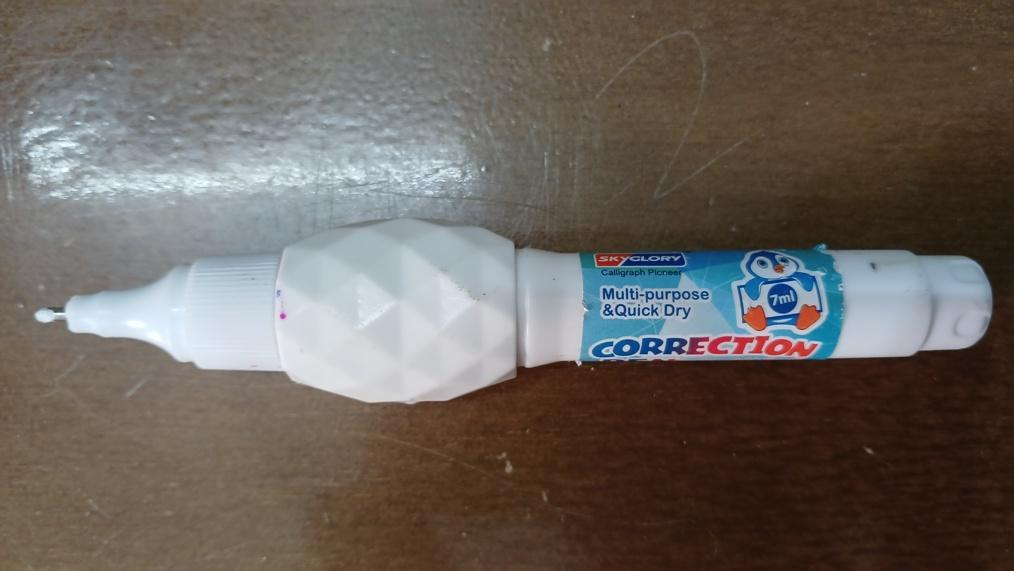Correction pen: (32, 217, 992, 401)
